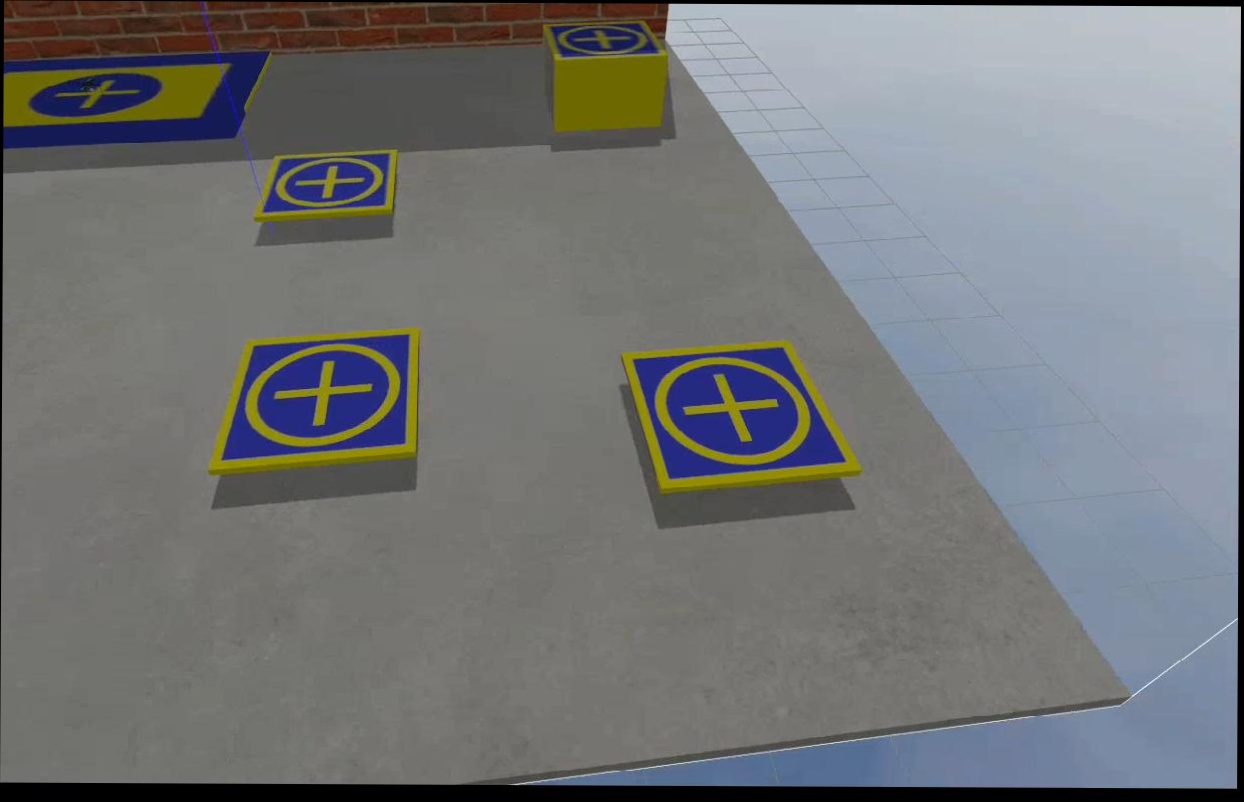large_base: (3, 53, 268, 146)
small_base: (621, 341, 863, 499), (207, 331, 420, 480), (257, 146, 397, 221), (541, 15, 668, 70)
